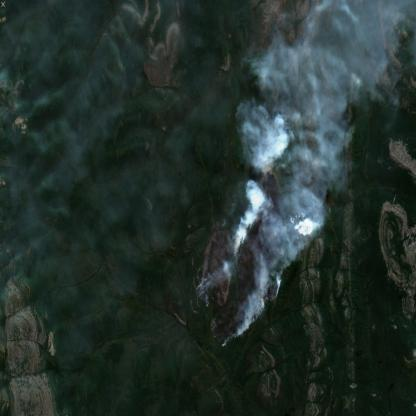fire: (218, 326, 255, 360), (225, 227, 253, 267), (188, 272, 212, 312), (257, 276, 282, 310)
